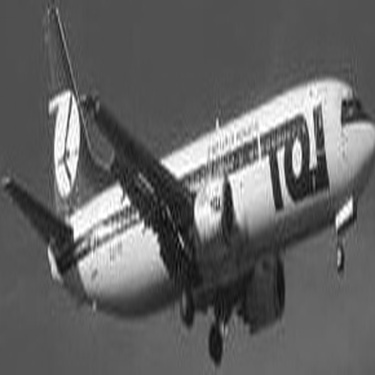airplane: (5, 4, 372, 373)
